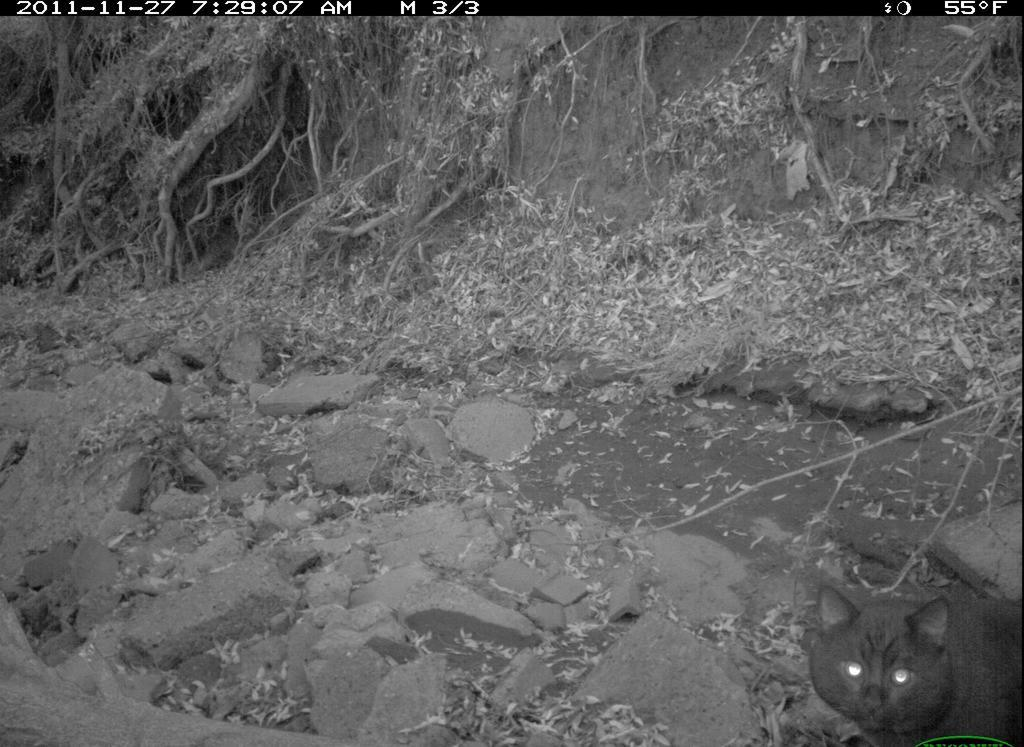cat: (797, 570, 1021, 744)
